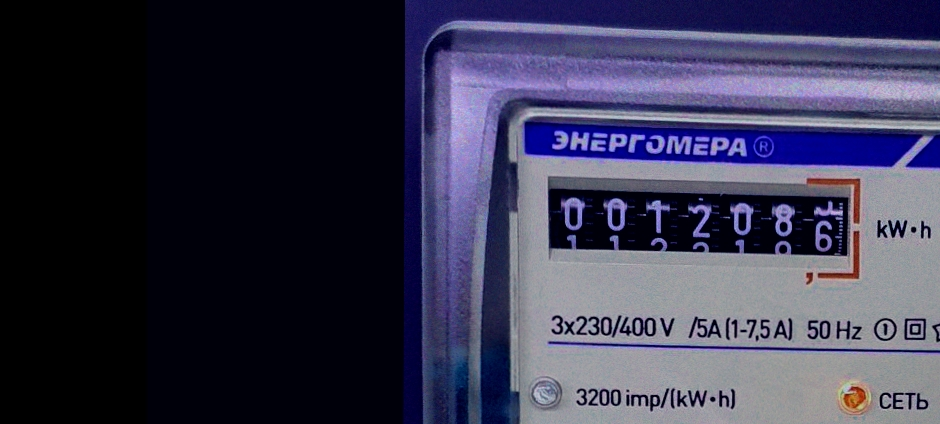0: (561, 193, 587, 232), (605, 195, 629, 232), (730, 199, 754, 236)
1: (647, 196, 668, 235)
2: (689, 201, 715, 239)
6: (812, 217, 835, 253)
8: (771, 201, 796, 238)
screen: (541, 169, 871, 284)
